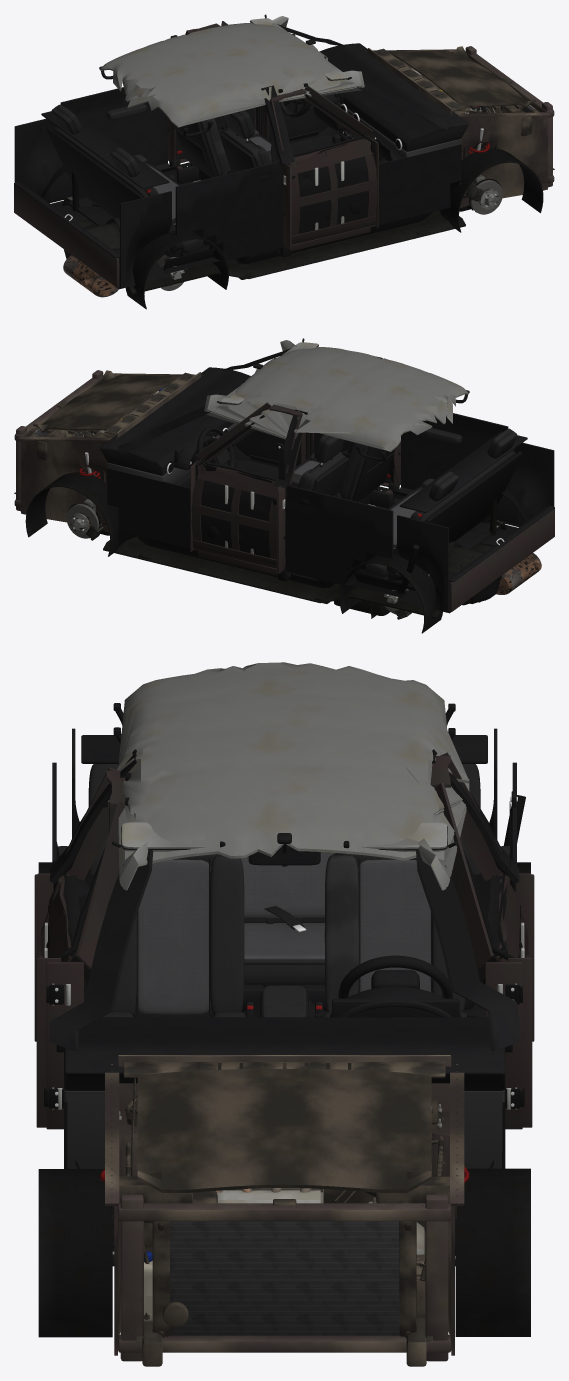
File: sagui_completo.glb
3 views of the same model, one above another, from view 1: azimuth 30°, elevation 25°; view 2: azimuth 150°, elevation 25°; view 3: azimuth 270°, elevation 25° (orthographic). The views are drawn at different scales.
Parts seen in each view (by area): view 1: interior_forro_teto, interior_portamalas_carpete, interior_lateral_traseira_dir, interior_painel, interior_banco_traseiro, door_card_fr_chapa, under_assoalho, interior_acabamento_pe_dir, engine_paralama_interno_dir, interior_lateral_traseira_esq, hood_manta, door_card_fr (+19 smaller); view 2: interior_forro_teto, interior_portamalas_carpete, interior_lateral_traseira_esq, interior_painel, interior_banco_traseiro, under_assoalho, interior_acabamento_pe_esq, door_card_fl_chapa, engine_paralama_interno_esq, interior_lateral_traseira_dir, hood_manta, door_card_fl (+20 smaller); view 3: interior_forro_teto, hood_manta, engine_radiador, interior_painel, engine_travessa, interior_banco_dianteiro_dir, interior_acabamento_colunas, interior_banco_dianteiro_esq, under_caixa_roda_fl, under_caixa_roda_fr, interior_banco_traseiro, jamb_fr_colunas (+20 smaller).
Boxes of the visible parts, left/top/right/bottom form: interior_forro_teto: left=99, top=16, right=364, bottom=137; interior_portamalas_carpete: left=14, top=118, right=171, bottom=289; interior_lateral_traseira_dir: left=163, top=158, right=283, bottom=261; interior_painel: left=308, top=43, right=468, bottom=184; interior_banco_traseiro: left=46, top=104, right=209, bottom=256; door_card_fr_chapa: left=287, top=138, right=378, bottom=248; under_assoalho: left=77, top=210, right=465, bottom=294; interior_acabamento_pe_dir: left=378, top=144, right=461, bottom=224; engine_paralama_interno_dir: left=452, top=107, right=550, bottom=208; interior_lateral_traseira_esq: left=60, top=87, right=175, bottom=206; hood_manta: left=388, top=46, right=535, bottom=110; door_card_fr: left=293, top=136, right=367, bottom=233; interior_forro_teto: left=204, top=340, right=469, bottom=461; interior_portamalas_carpete: left=391, top=442, right=554, bottom=613; interior_lateral_traseira_esq: left=285, top=485, right=403, bottom=585; interior_painel: left=100, top=367, right=254, bottom=508; interior_banco_traseiro: left=359, top=428, right=522, bottom=580; under_assoalho: left=103, top=536, right=491, bottom=618; interior_acabamento_pe_esq: left=107, top=468, right=190, bottom=548; door_card_fl_chapa: left=190, top=462, right=281, bottom=572; engine_paralama_interno_esq: left=18, top=432, right=116, bottom=532; interior_lateral_traseira_dir: left=393, top=413, right=508, bottom=531; hood_manta: left=33, top=370, right=181, bottom=434; door_card_fl: left=201, top=460, right=275, bottom=557; interior_forro_teto: left=113, top=662, right=469, bottom=890; hood_manta: left=137, top=1068, right=431, bottom=1192; engine_radiador: left=152, top=1221, right=416, bottom=1337; interior_painel: left=64, top=986, right=505, bottom=1168; engine_travessa: left=112, top=1176, right=456, bottom=1361; interior_banco_dianteiro_dir: left=102, top=854, right=254, bottom=1017; interior_acabamento_colunas: left=49, top=749, right=519, bottom=1051; interior_banco_dianteiro_esq: left=315, top=853, right=466, bottom=1017; under_caixa_roda_fl: left=455, top=1168, right=530, bottom=1336; under_caixa_roda_fr: left=38, top=1169, right=112, bottom=1337; interior_banco_traseiro: left=88, top=764, right=480, bottom=1011; jamb_fr_colunas: left=34, top=767, right=125, bottom=1129.
Size of what is drawn, in the model's own units: 3.69 by 1.54 by 1.73.
54 materials, 54 textured.
